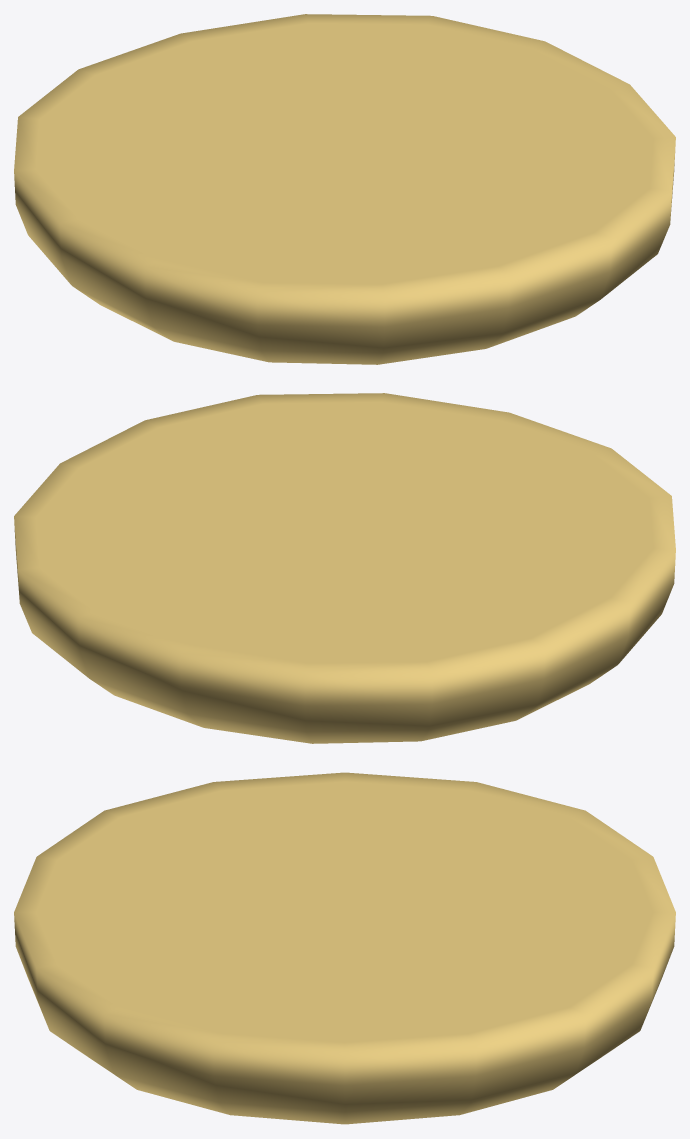
The model's file is Hamburger-Bread02.fbx.
3 views of the same model, one above another, from view 1: azimuth 30°, elevation 25°; view 2: azimuth 150°, elevation 25°; view 3: azimuth 270°, elevation 25° (orthographic).
Visible parts, largest first — view 1: Bread; view 2: Bread; view 3: Bread.
Part boxes in pixels (x1=…): Bread: x1=14, y1=14, x2=675, y2=364; Bread: x1=14, y1=393, x2=675, y2=743; Bread: x1=14, y1=772, x2=675, y2=1124.
Size of the model in its own units: 183 by 39.02 by 183.
